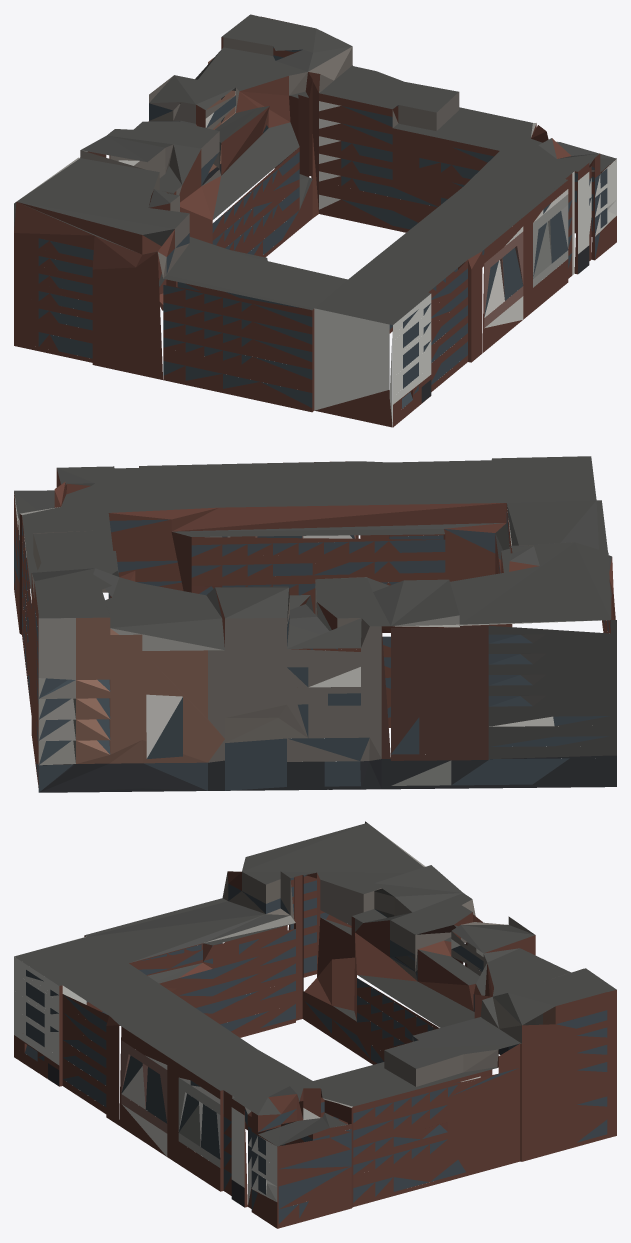
Rendered from rapenburgerstraat-220.lod2.glb.
3 renders of one model, top to bottom at view 1: azimuth 30°, elevation 25°; view 2: azimuth 150°, elevation 25°; view 3: azimuth 270°, elevation 25°, orthographic. The views are drawn at different scales.
Visible parts, largest first — view 1: lod2; view 2: lod2; view 3: lod2.
Part boxes in pixels (x1,y1,x2,y2): lod2: (14,14,616,427); lod2: (14,456,616,792); lod2: (14,821,616,1228).
Bounding box in the file's own units: 84.84 × 21.68 × 80.7.
